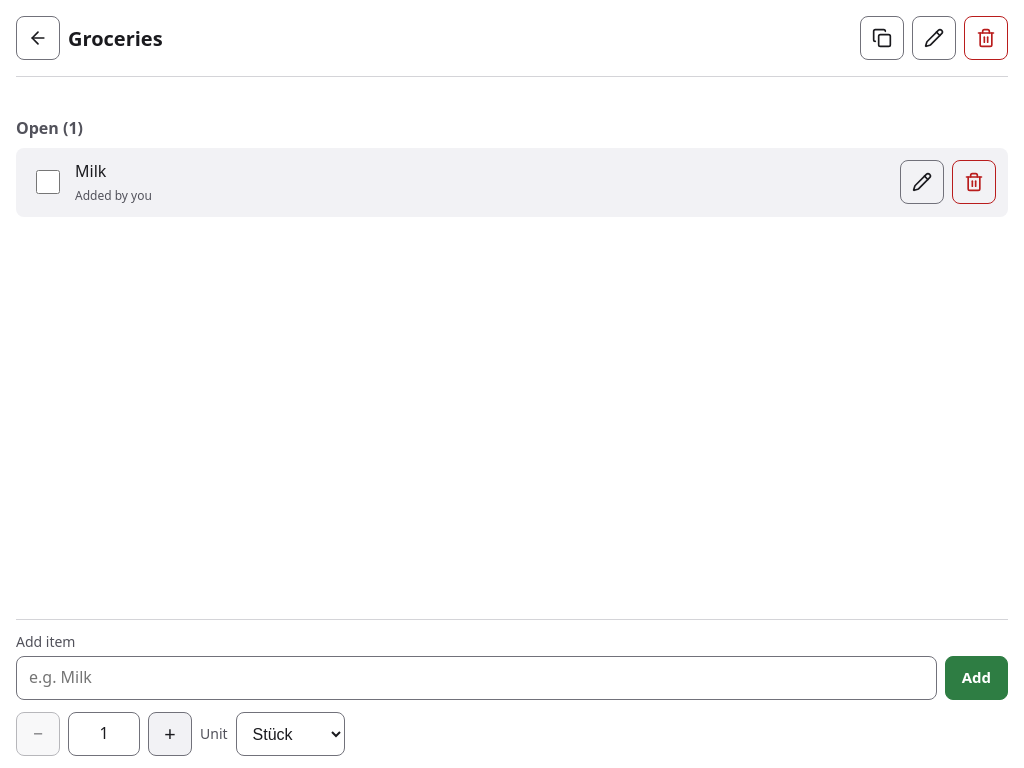
Test: ListDetail item attribution › flips to "Bought by you" on check and back on uncheck
Expected: the text "Added by you" is shown, [75,187,152,204]
Step 1. Click the checkbox → (48, 182), box [36,170,60,194]
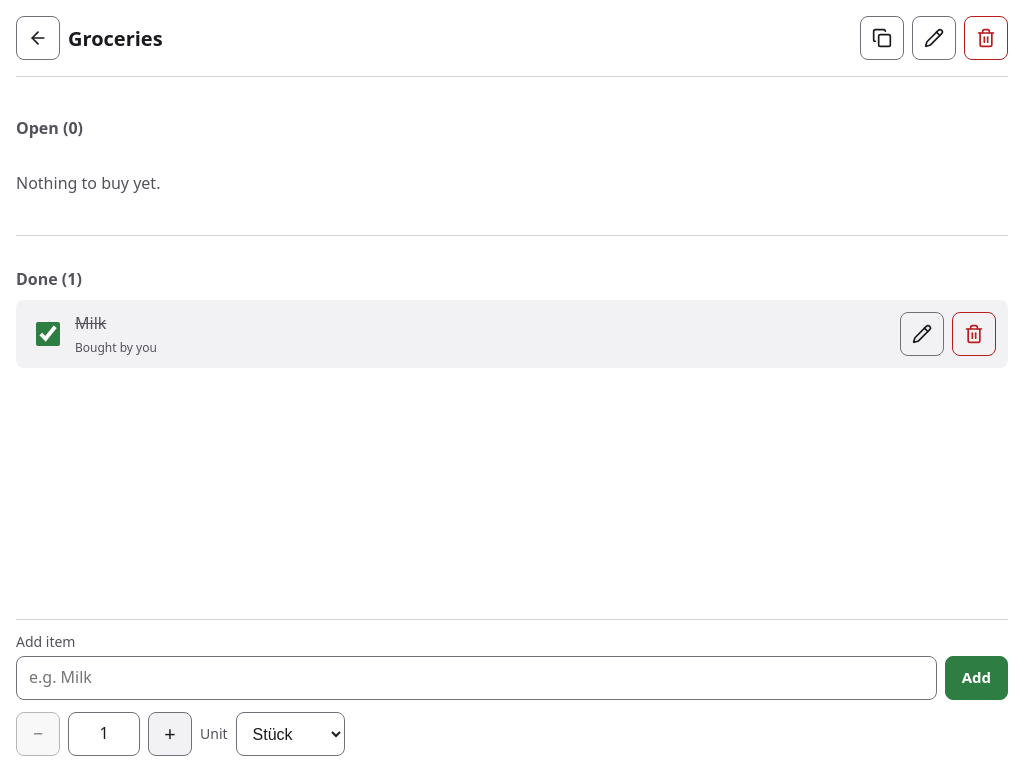
Now the text "Bought by you" is shown, box [75,339,157,356]
Step 2. Click the checkbox → (48, 334), box [36,322,60,346]
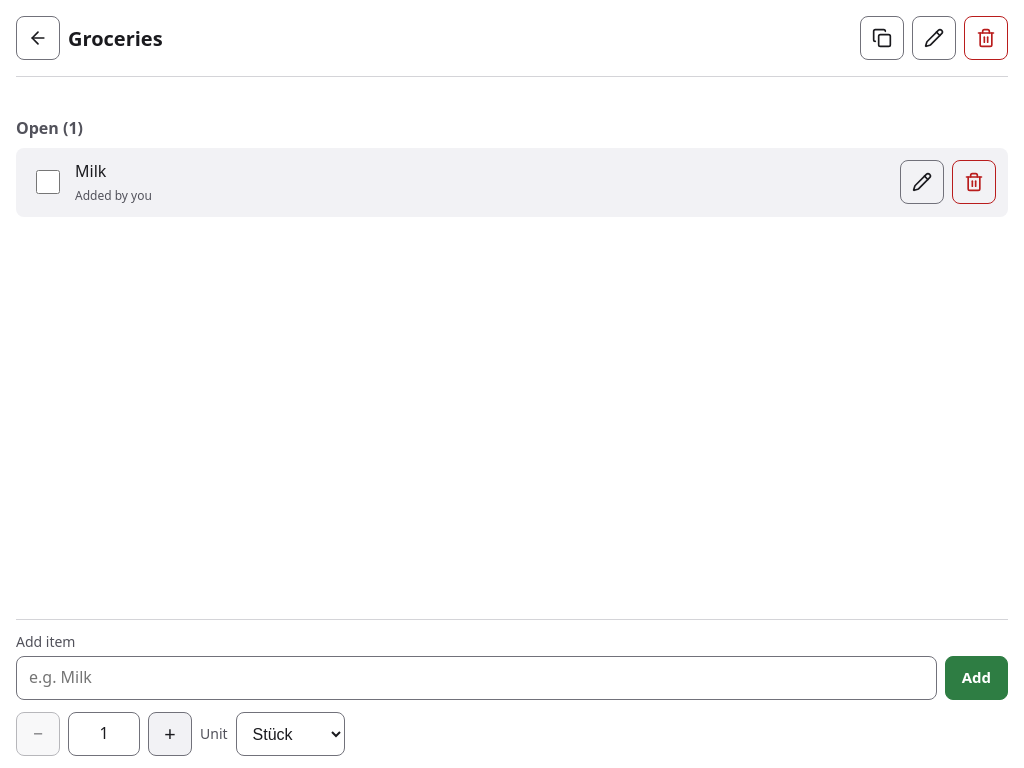
Now the text "Added by you" is shown, box [75,187,152,204]
Now the text "Bought by you" is gone
